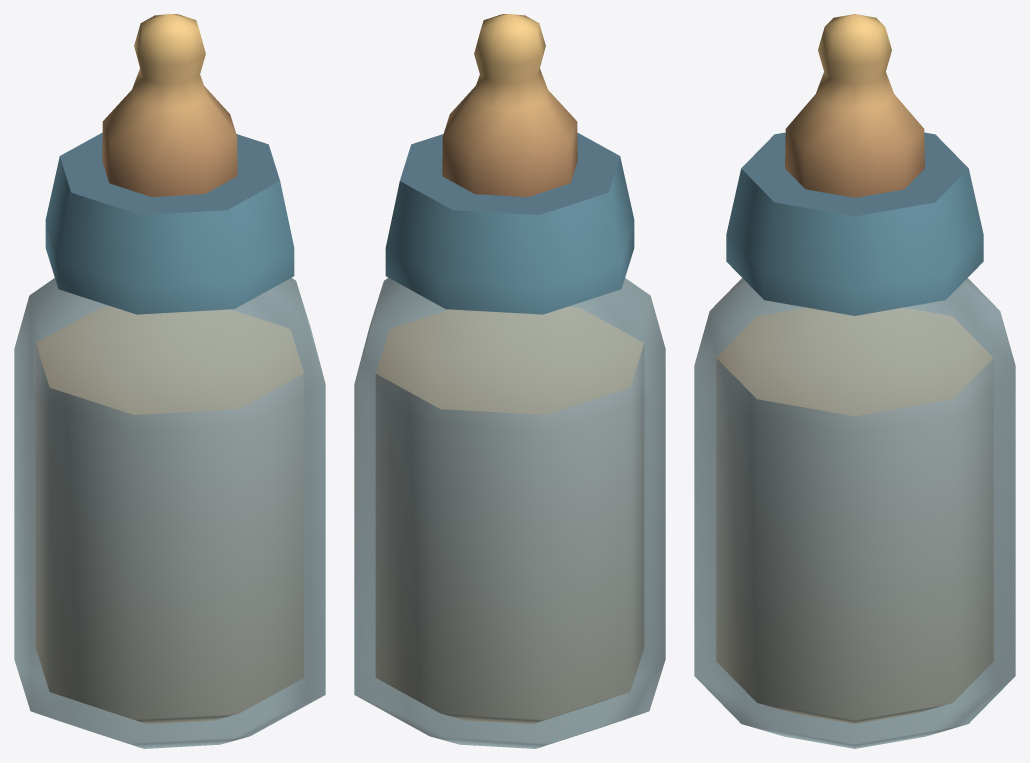
Rendered from consumables-drinks-babybottle_v1.glb.
3 views of the same model, side by side, from view 1: azimuth 30°, elevation 25°; view 2: azimuth 150°, elevation 25°; view 3: azimuth 270°, elevation 25° (orthographic).
Parts seen in each view (by area): view 1: BabyBottle_base, BabyBottle_transp; view 2: BabyBottle_base, BabyBottle_transp; view 3: BabyBottle_base, BabyBottle_transp.
Part boxes in pixels (box(x1,y1,x2,y2)): BabyBottle_base: box(35, 14, 304, 724); BabyBottle_transp: box(14, 278, 325, 748); BabyBottle_base: box(375, 14, 644, 724); BabyBottle_transp: box(354, 278, 665, 748); BabyBottle_base: box(716, 14, 993, 724); BabyBottle_transp: box(694, 278, 1015, 748).
Bounding box in the file's own units: 0.108 × 0.2567 × 0.108.
